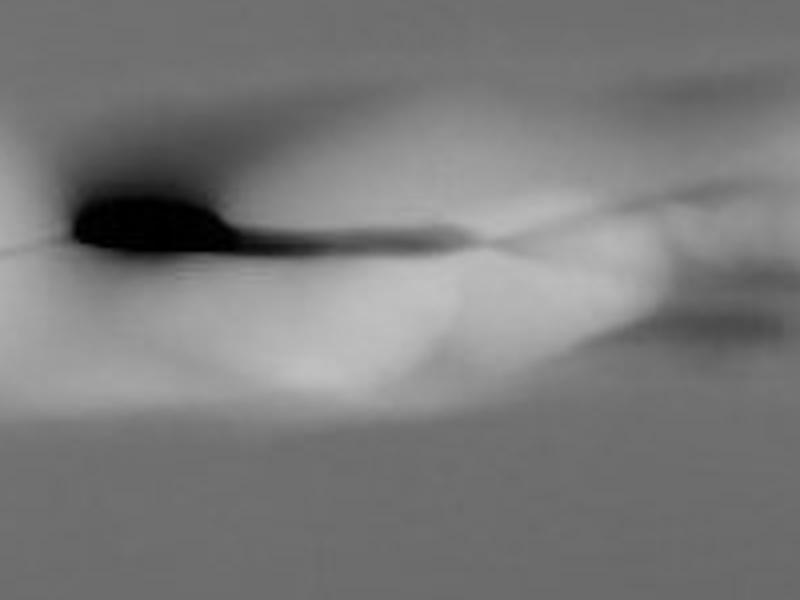defect: (73, 194, 237, 261)
